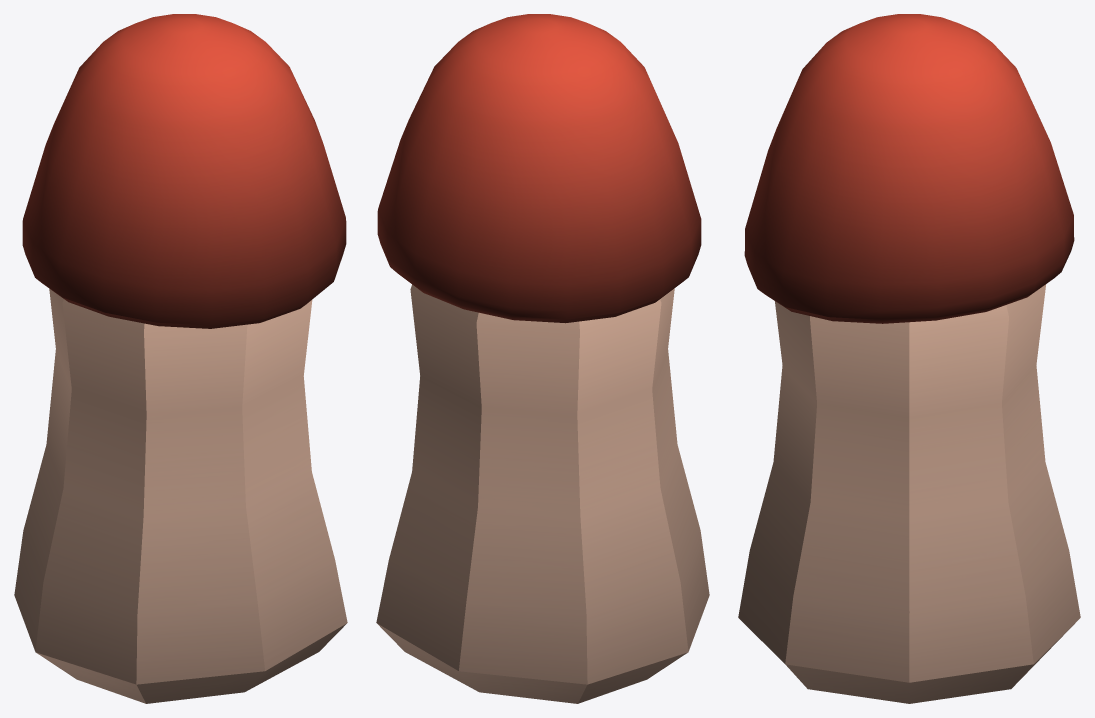
Rendered from mushroom5.fbx.
3 views of the same model, side by side, from view 1: azimuth 30°, elevation 25°; view 2: azimuth 150°, elevation 25°; view 3: azimuth 270°, elevation 25° (orthographic).
Visible parts, largest first — view 1: mushroom9; view 2: mushroom9; view 3: mushroom9.
Part boxes in pixels (x1=…): mushroom9: x1=14, y1=14, x2=347, y2=703; mushroom9: x1=376, y1=14, x2=709, y2=703; mushroom9: x1=738, y1=14, x2=1080, y2=703.
Size of the model in its own units: 16.36 by 34.01 by 16.38.
